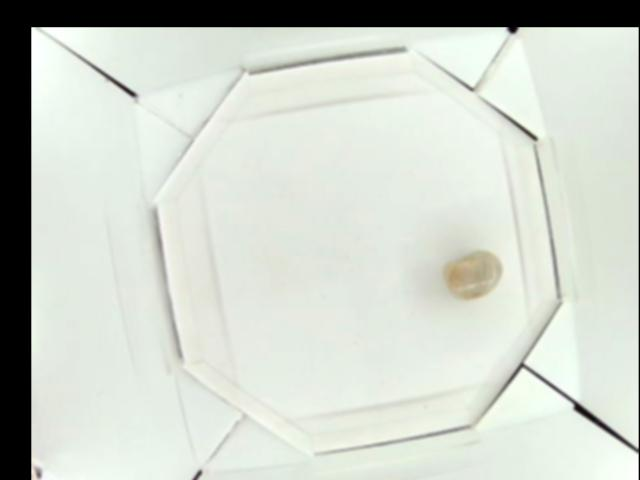Pebble: (445, 251, 503, 298)
